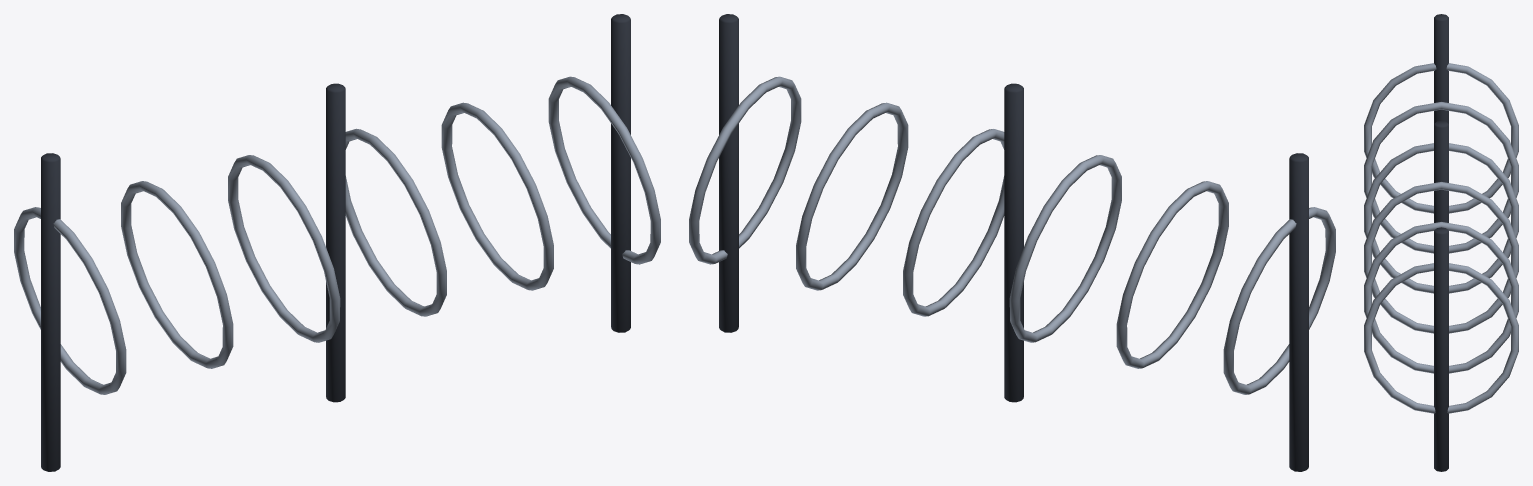
File: barbed_wire_fence.obj
3 views of the same model, side by side, from view 1: azimuth 30°, elevation 25°; view 2: azimuth 150°, elevation 25°; view 3: azimuth 270°, elevation 25° (orthographic). The views are drawn at different scales.
Parts seen in each view (by area): view 1: Stake_-0.38, Stake_1.38, Stake_0.5, Coil_1, Coil_4, Coil_2, Coil_5, Coil_0, Coil_3; view 2: Stake_-0.38, Stake_1.38, Stake_0.5, Coil_1, Coil_4, Coil_2, Coil_5, Coil_0, Coil_3; view 3: Stake_1.38, Coil_5, Coil_4, Coil_3, Coil_1, Coil_0, Coil_2, Stake_-0.38, Stake_0.5.
Part boxes in pixels (left/top/right/bottom): Stake_-0.38: left=41, top=153, right=60, bottom=471; Stake_1.38: left=611, top=14, right=630, bottom=332; Stake_0.5: left=326, top=83, right=345, bottom=402; Coil_1: left=121, top=181, right=233, bottom=368; Coil_4: left=441, top=102, right=553, bottom=290; Coil_2: left=228, top=155, right=340, bottom=342; Coil_5: left=548, top=76, right=660, bottom=264; Coil_0: left=14, top=207, right=126, bottom=394; Coil_3: left=345, top=128, right=446, bottom=316; Stake_-0.38: left=1289, top=153, right=1308, bottom=471; Stake_1.38: left=719, top=14, right=738, bottom=332; Stake_0.5: left=1004, top=83, right=1023, bottom=402; Coil_1: left=1116, top=181, right=1228, bottom=368; Coil_4: left=796, top=102, right=908, bottom=290; Coil_2: left=1009, top=155, right=1121, bottom=342; Coil_5: left=689, top=76, right=801, bottom=264; Coil_0: left=1223, top=207, right=1335, bottom=394; Coil_3: left=903, top=129, right=1004, bottom=316; Stake_1.38: left=1434, top=227, right=1448, bottom=471; Coil_5: left=1364, top=263, right=1518, bottom=413; Coil_4: left=1364, top=222, right=1518, bottom=373; Coil_3: left=1364, top=182, right=1518, bottom=333; Coil_1: left=1364, top=102, right=1518, bottom=253; Coil_0: left=1364, top=63, right=1518, bottom=213; Coil_2: left=1364, top=143, right=1518, bottom=293; Stake_-0.38: left=1434, top=14, right=1448, bottom=123; Stake_0.5: left=1434, top=120, right=1448, bottom=222.
Bounding box in the file's own units: 1.81 × 0.92 × 0.5397.
